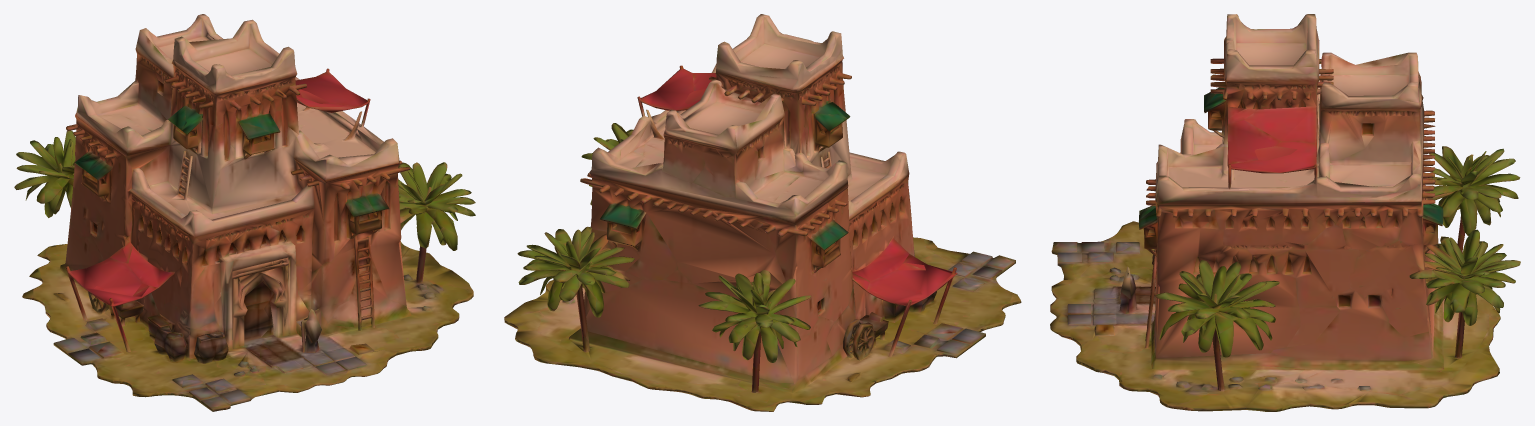
Rendered from house_17.glb.
The picture shows the model from 3 angles, left to right: view 1: azimuth 30°, elevation 25°; view 2: azimuth 150°, elevation 25°; view 3: azimuth 270°, elevation 25°; orthographic projection. The views are drawn at different scales.
Visible parts, largest first — view 1: material; view 2: material; view 3: material.
Part boxes in pixels (box(x1,y1,x2,y2)): material: box(14, 14, 475, 411); material: box(504, 14, 1021, 411); material: box(1050, 14, 1520, 411).
Bounding box in the file's own units: 0.8532 × 0.5671 × 0.8725.
Materials: 1 (1 with a texture image).
